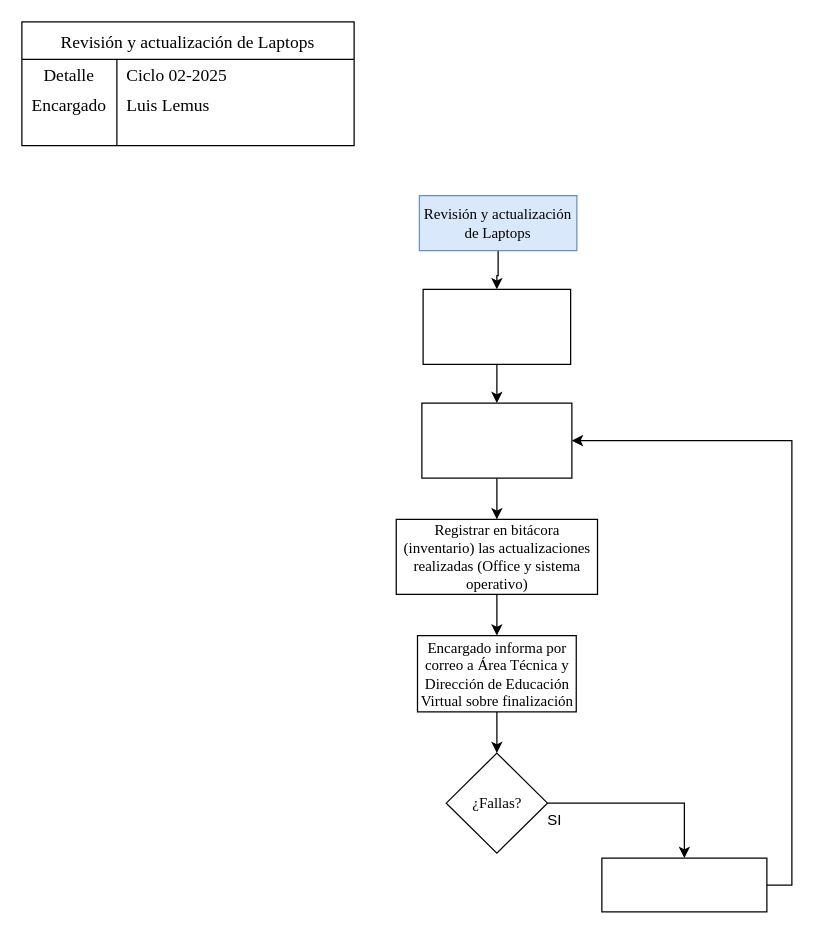
This 824x934 diagram has some shape labels left out. The centre of each missing label's shape, as x and y in pixels:
Encargado de laptops prepara cronograma con fechas especificas de actualización: point (496, 440)
Informar a Dirección para gestionar apoyo con Didática S.A: point (684, 884)
Área técnica solicita actualización de laptops cada 2 meses: point (496, 326)
